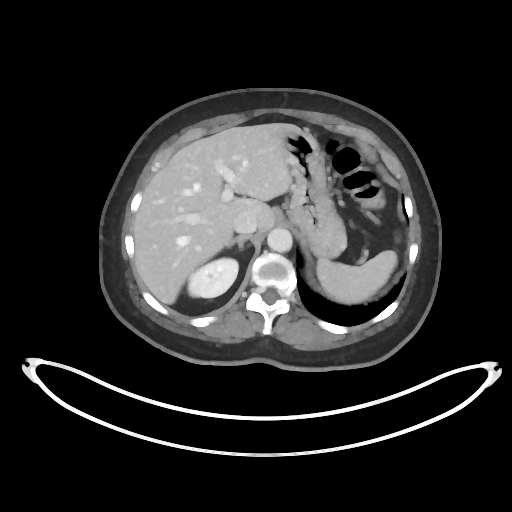Lesion: (204, 270, 215, 278)
